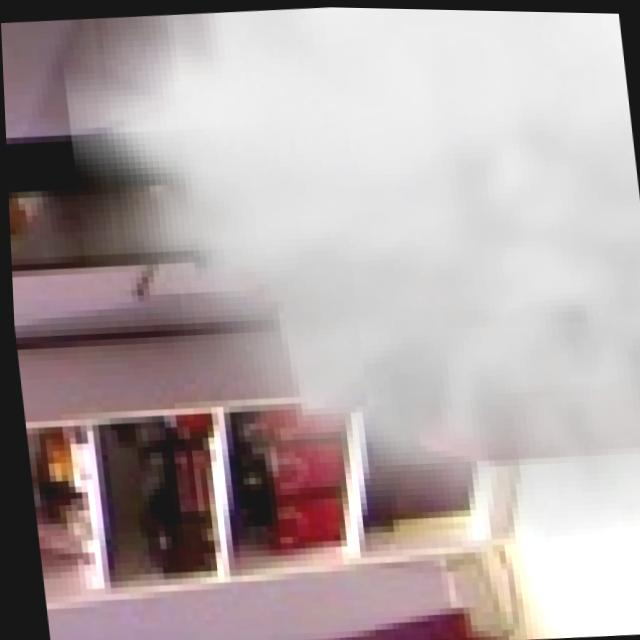smoke: (56, 1, 640, 640)
